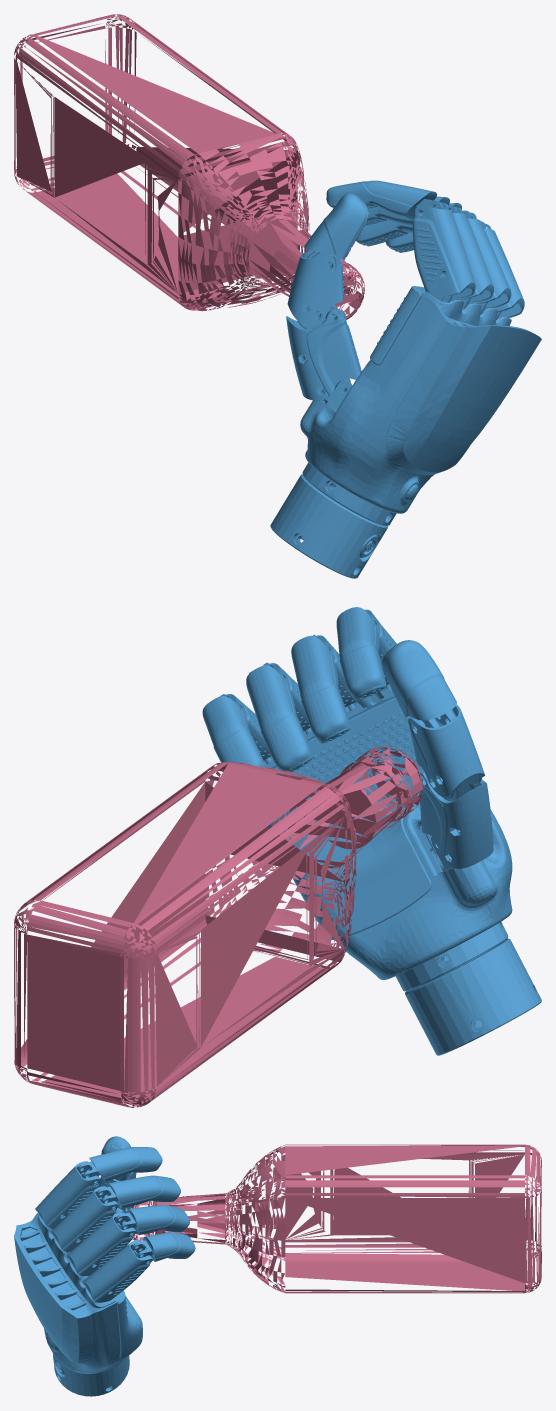
The picture shows the model from 3 angles, top to bottom: view 1: azimuth 30°, elevation 25°; view 2: azimuth 150°, elevation 25°; view 3: azimuth 270°, elevation 25°; orthographic projection. The views are drawn at different scales.
Parts seen in each view (by area): view 1: 6; view 2: 6; view 3: 6.
Boxes of the visible parts, left/top/right/bottom form: 6: left=14, top=14, right=541, bottom=578; 6: left=14, top=607, right=541, bottom=1107; 6: left=14, top=1136, right=541, bottom=1396.
Bounding box in the file's own units: 0.1404 × 0.1937 × 0.348.
